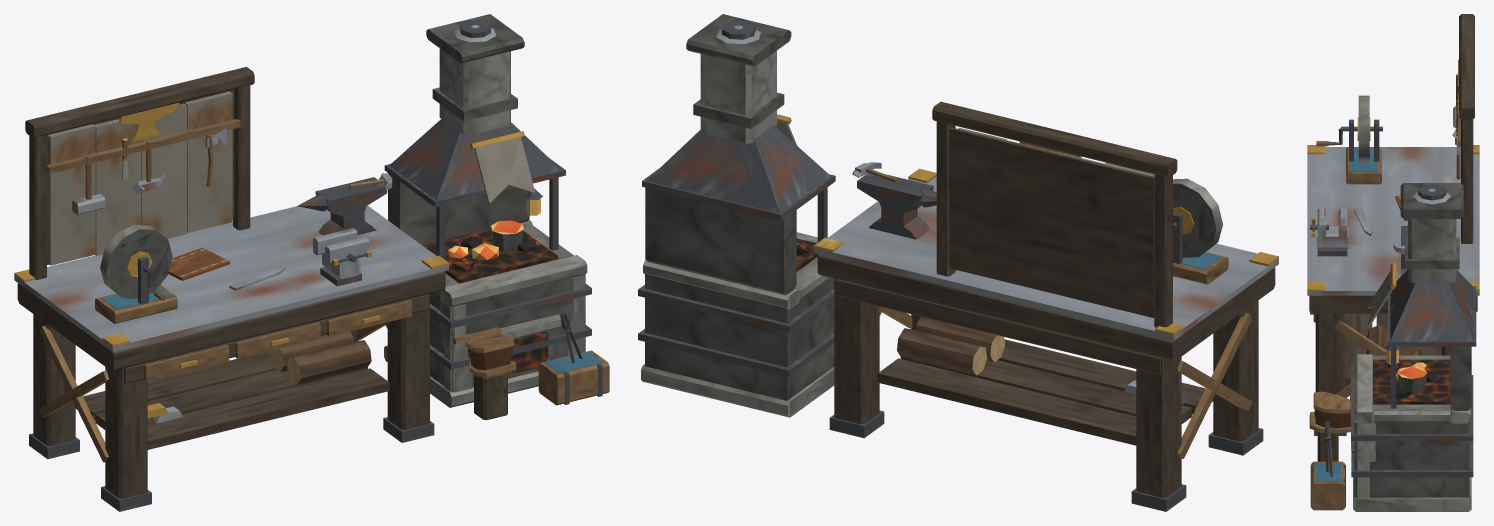
The model's file is SM_Workbench_Level05.fbx.
The picture shows the model from 3 angles, left to right: view 1: azimuth 30°, elevation 25°; view 2: azimuth 150°, elevation 25°; view 3: azimuth 270°, elevation 25°; orthographic projection. The views are drawn at different scales.
Visible parts, largest first — view 1: SM_Workbench_Level05; view 2: SM_Workbench_Level05; view 3: SM_Workbench_Level05.
Part boxes in pixels (x1,y1,x2,y2): SM_Workbench_Level05: (14, 14, 609, 511); SM_Workbench_Level05: (638, 14, 1278, 511); SM_Workbench_Level05: (1307, 14, 1479, 511).
Bounding box in the file's own units: 12.15 × 7.7 × 4.1.
Materials: 1 (1 with a texture image).
